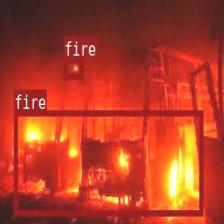fire: (13, 109, 202, 215), (64, 56, 82, 78)
